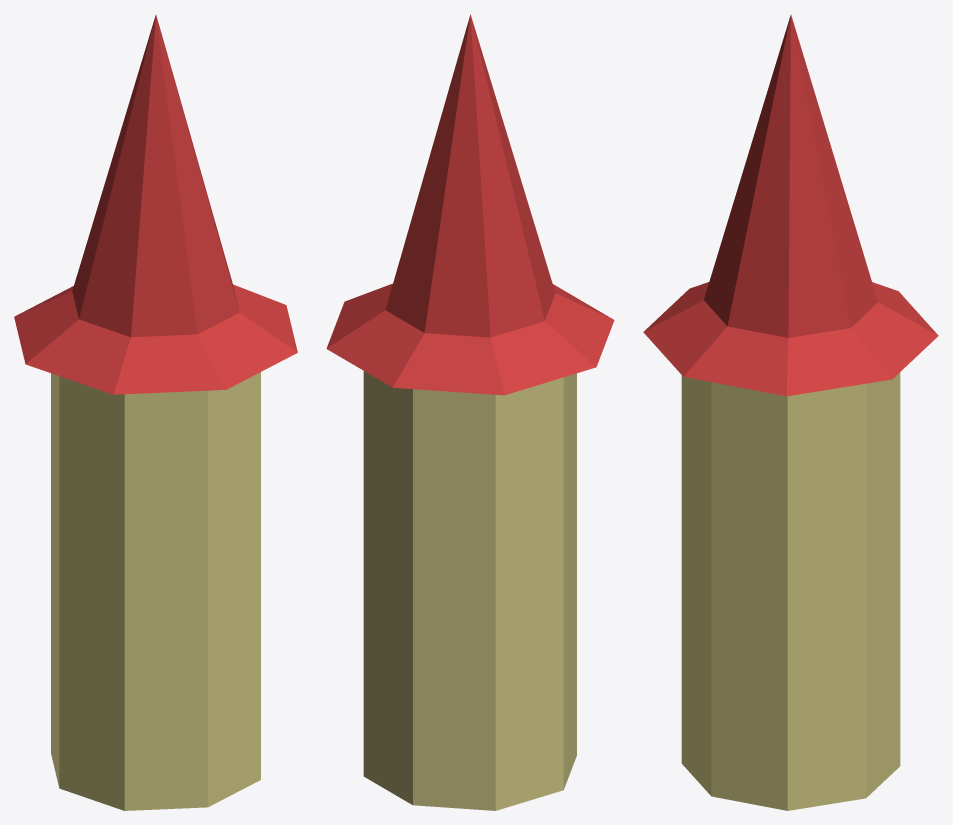
The picture shows the model from 3 angles, left to right: view 1: azimuth 30°, elevation 25°; view 2: azimuth 150°, elevation 25°; view 3: azimuth 270°, elevation 25°; orthographic projection.
Size of the model in its own units: 4.17 by 4.17 by 11.68.
